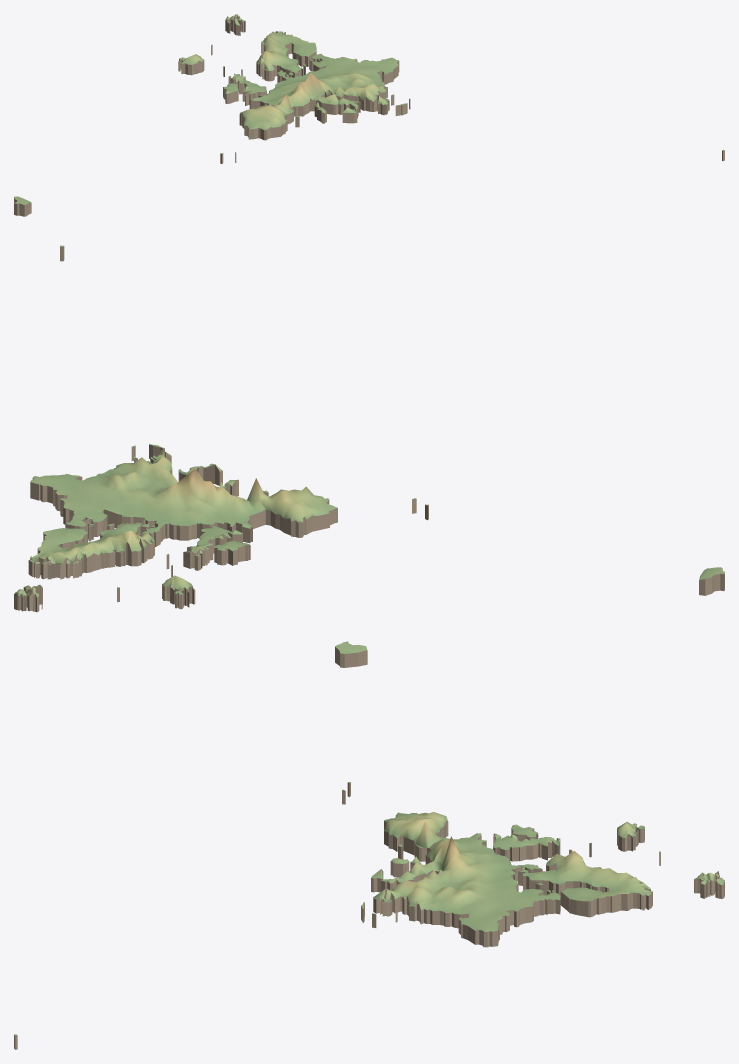
The model's file is europa-terrain.glb.
The picture shows the model from 3 angles, top to bottom: view 1: azimuth 30°, elevation 25°; view 2: azimuth 150°, elevation 25°; view 3: azimuth 270°, elevation 25°; orthographic projection. The views are drawn at different scales.
Visible parts, largest first — view 1: europa: norte em -Z, leste em +X, elevação em +Y; view 2: europa: norte em -Z, leste em +X, elevação em +Y; view 3: europa: norte em -Z, leste em +X, elevação em +Y.
Part boxes in pixels (x1,y1,x2,y2): europa: norte em -Z, leste em +X, elevação em +Y: (14,14,724,216); europa: norte em -Z, leste em +X, elevação em +Y: (14,245,724,612); europa: norte em -Z, leste em +X, elevação em +Y: (14,641,724,1049).
Bounding box in the file's own units: 1.51 × 0.0796 × 1.16.
